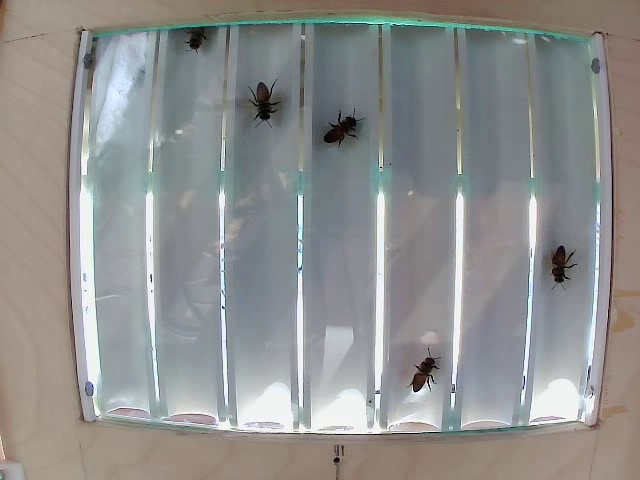bee: (543, 237, 575, 286), (325, 115, 365, 145), (253, 79, 280, 123), (406, 366, 437, 386)
